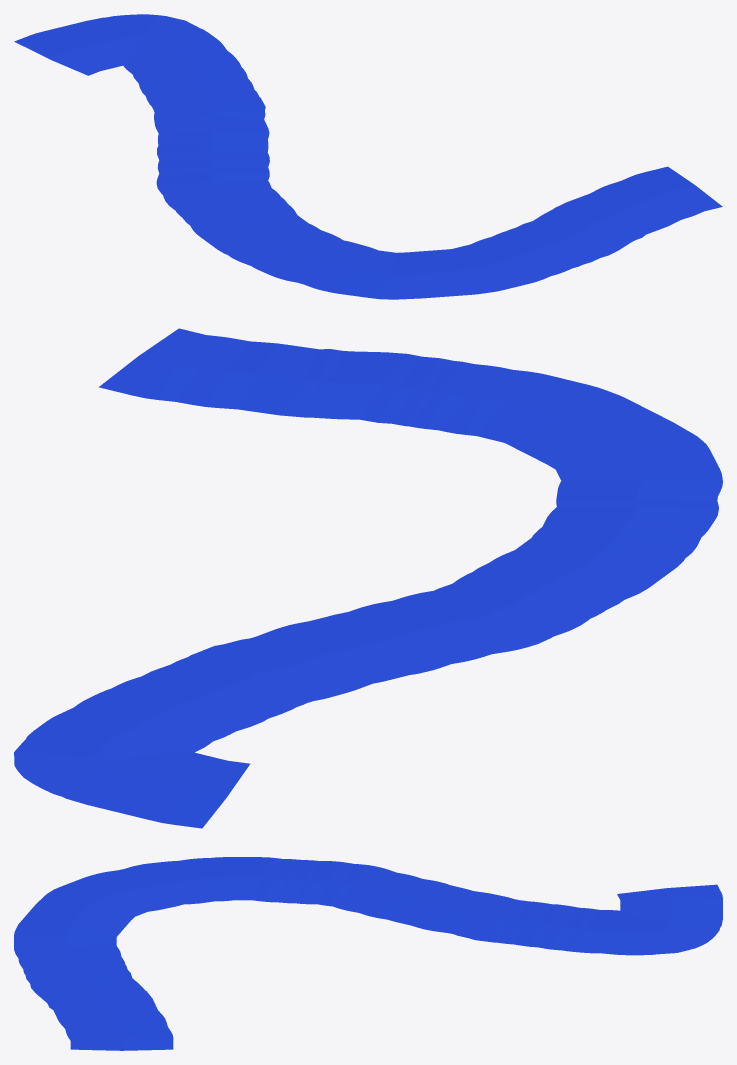
3 views of the same model, one above another, from view 1: azimuth 30°, elevation 25°; view 2: azimuth 150°, elevation 25°; view 3: azimuth 270°, elevation 25° (orthographic). The views are drawn at different scales.
Visible parts, largest first — view 1: GP_Layer; view 2: GP_Layer; view 3: GP_Layer.
Boxes of the visible parts, box(x1,y1,x2,y2) form: GP_Layer: box(14, 14, 722, 299); GP_Layer: box(14, 328, 722, 828); GP_Layer: box(14, 857, 722, 1050).
Size of the model in its own units: 0.1138 by 0.1771 by 0.000692.
